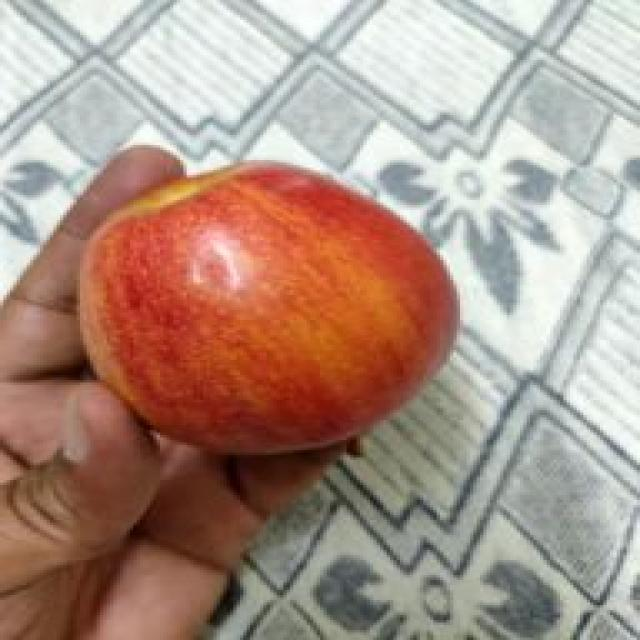Good_Apple: (77, 162, 460, 460)
